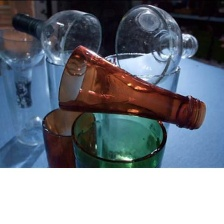bottle: (0, 20, 54, 149)
glass: (99, 51, 183, 138), (70, 103, 170, 170), (39, 100, 102, 170), (44, 48, 93, 111)
